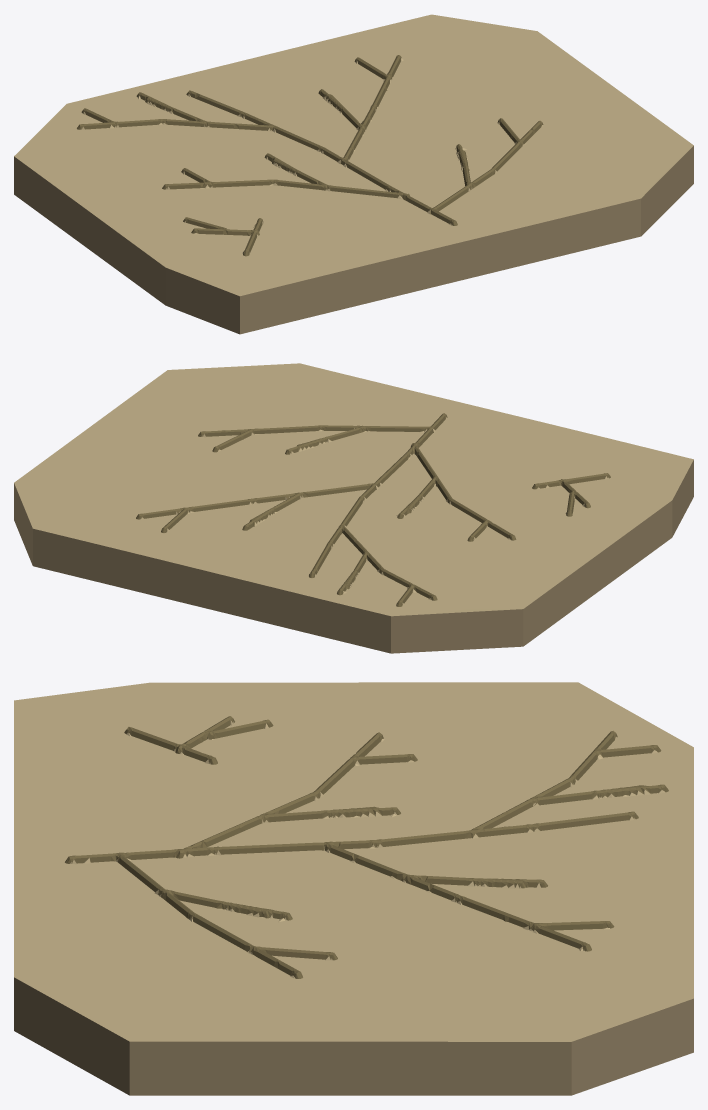
Rendered from chondrites-branching-trace.glb.
3 views of the same model, one above another, from view 1: azimuth 30°, elevation 25°; view 2: azimuth 150°, elevation 25°; view 3: azimuth 270°, elevation 25° (orthographic). The views are drawn at different scales.
Parts seen in each view (by area): view 1: chondrites-branching-trace_continuous_sediment_and_trace_rel; view 2: chondrites-branching-trace_continuous_sediment_and_trace_rel; view 3: chondrites-branching-trace_continuous_sediment_and_trace_rel.
Part boxes in pixels (x1,y1,x2,y2): chondrites-branching-trace_continuous_sediment_and_trace_rel: (14, 14, 693, 334); chondrites-branching-trace_continuous_sediment_and_trace_rel: (14, 363, 693, 653); chondrites-branching-trace_continuous_sediment_and_trace_rel: (14, 682, 693, 1095).
Bounding box in the file's own units: 0.2 × 0.0156 × 0.16.
